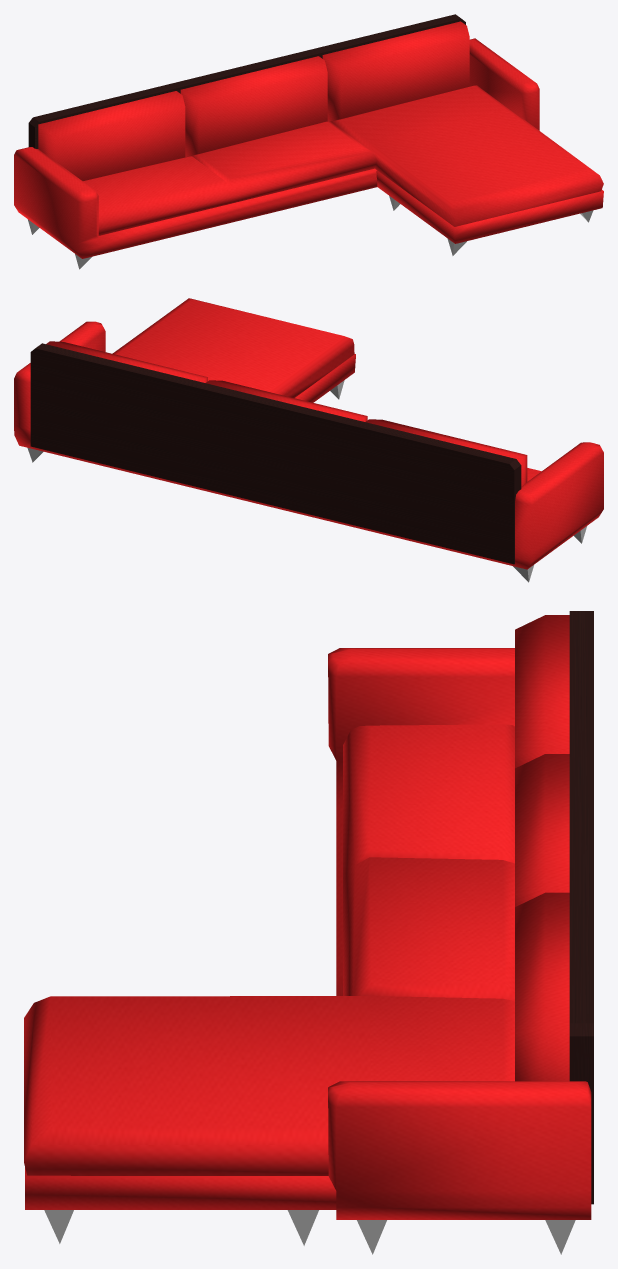
The model's file is Chaise_Sofa_A_02.FBX.
3 renders of one model, top to bottom at view 1: azimuth 30°, elevation 25°; view 2: azimuth 150°, elevation 25°; view 3: azimuth 270°, elevation 25°, orthographic. The views are drawn at different scales.
Parts seen in each view (by area): view 1: Chaise_Sofa_A; view 2: Chaise_Sofa_A; view 3: Chaise_Sofa_A.
Part boxes in pixels (left/top/right/bottom): Chaise_Sofa_A: left=14, top=14, right=603, bottom=269; Chaise_Sofa_A: left=14, top=298, right=603, bottom=582; Chaise_Sofa_A: left=24, top=611, right=593, bottom=1254.
Size of the model in its own units: 685 by 157 by 366.
